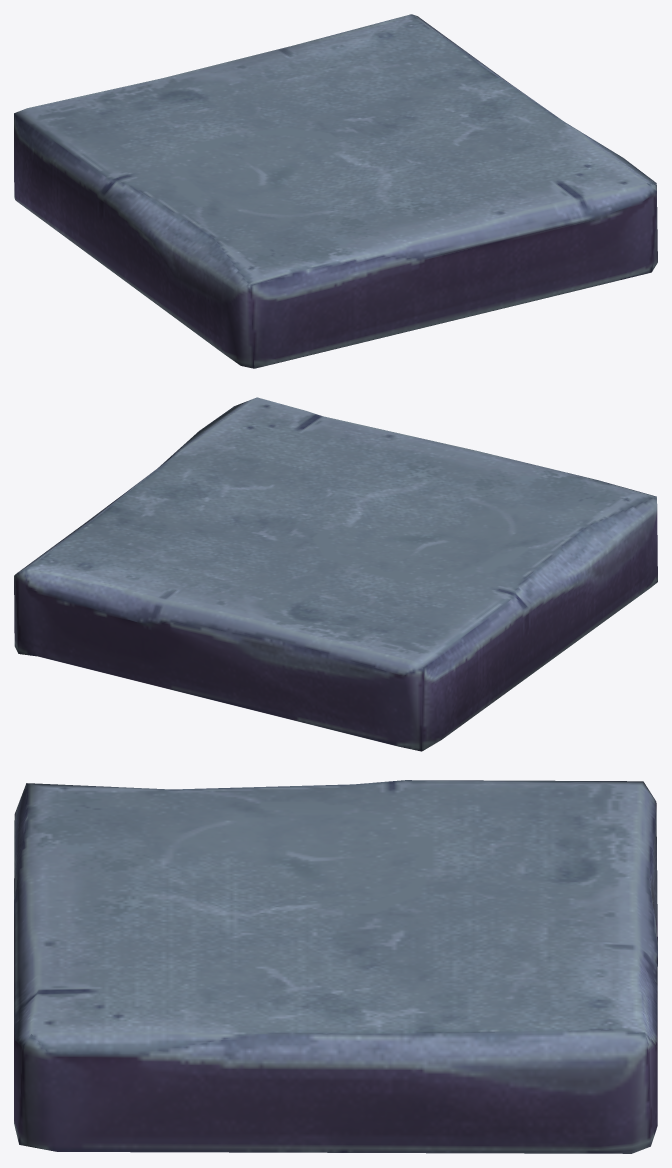
File: floorTile.glb
The picture shows the model from 3 angles, top to bottom: view 1: azimuth 30°, elevation 25°; view 2: azimuth 150°, elevation 25°; view 3: azimuth 270°, elevation 25°; orthographic projection. The views are drawn at different scales.
Visible parts, largest first — view 1: Tile2_02; view 2: Tile2_02; view 3: Tile2_02.
Boxes of the visible parts, x1,y1,x2,y2 form: Tile2_02: (14,14,657,368); Tile2_02: (14,397,657,751); Tile2_02: (14,780,657,1153).
Size of the model in its own units: 0.2855 by 0.056 by 0.2854.
Materials: 1 (1 with a texture image).
